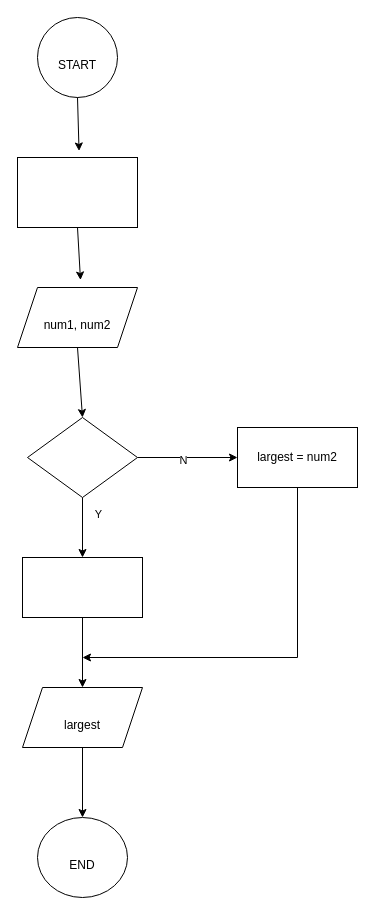
This 375x915 diagram has some shape labels left out. Here are the shapes that lost their labels. From the top down, the centre of each, then its label:
At [77,192]: "num1, num2, largest".
At [82,457]: "num1 > num2".
At [82,587]: "largest = num1".
